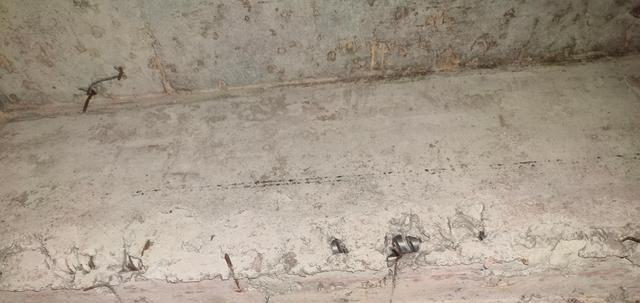Exposed reinforcement: (386, 234, 421, 261), (86, 75, 120, 96), (224, 253, 241, 289), (83, 283, 117, 295), (82, 89, 97, 113), (331, 239, 348, 254), (141, 239, 151, 257), (621, 236, 640, 244), (117, 66, 124, 81)
